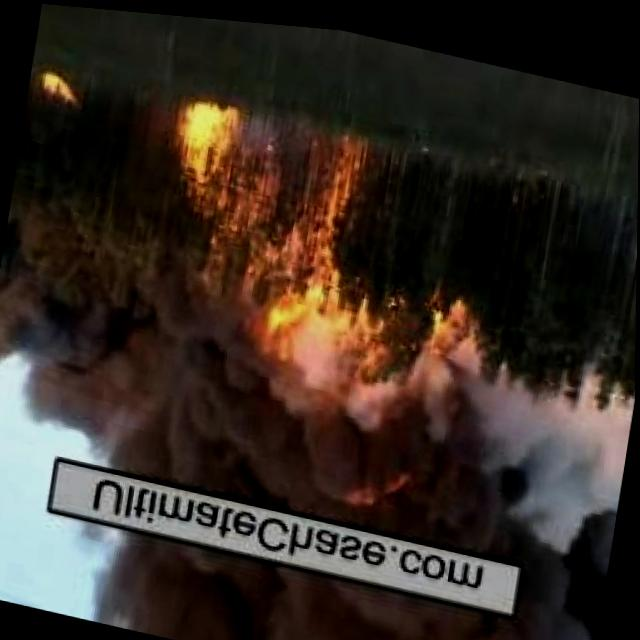Fire: (263, 111, 377, 356), (162, 84, 249, 209), (401, 294, 481, 402), (34, 66, 84, 110)
Smoke: (0, 305, 628, 569), (70, 511, 600, 640)
